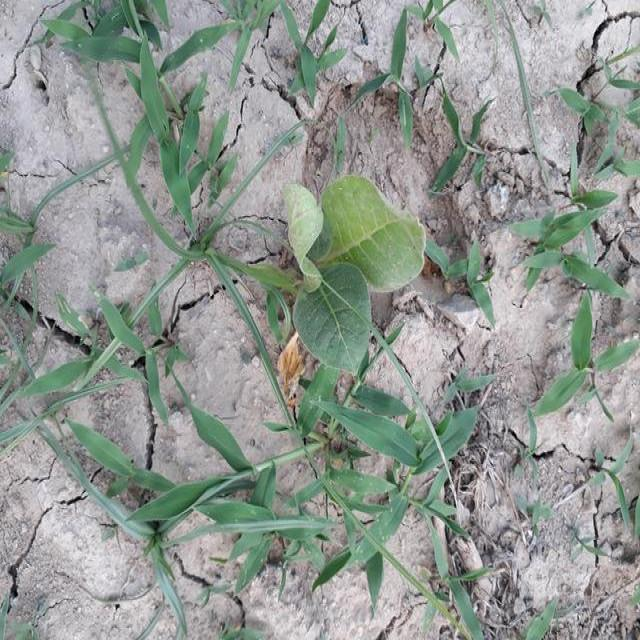crop: (278, 161, 430, 378)
